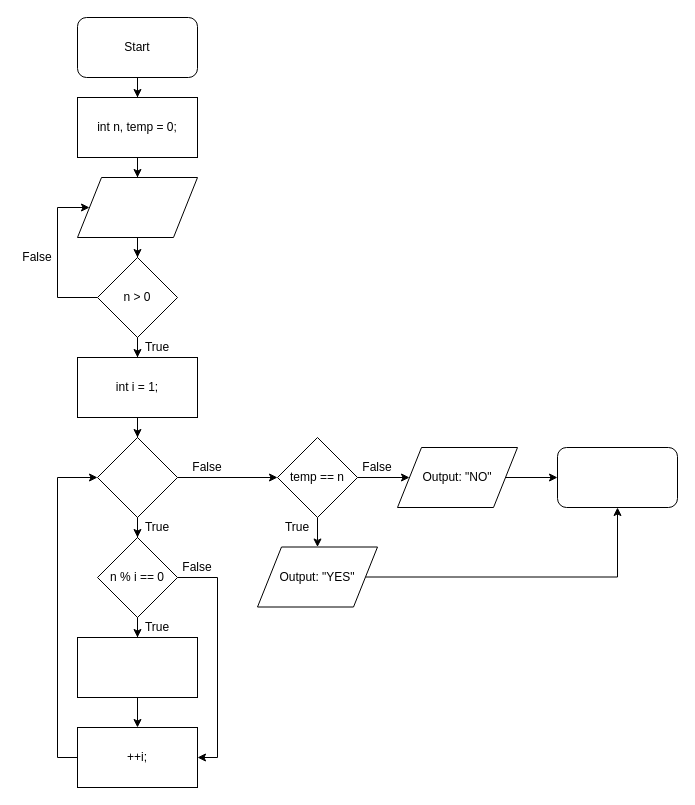
This 695x805 diagram has some shape labels left out. Here are the shapes that lost their labels. From the top down, the centre of each, then its label:
pixel 137 207: Input: n;
pixel 137 477: I <= (n/2)
pixel 617 477: End
pixel 137 667: temp += i;
